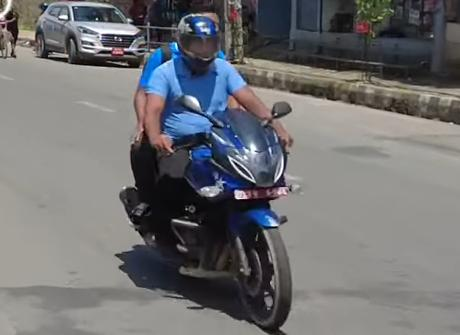bike: (117, 92, 303, 335)
